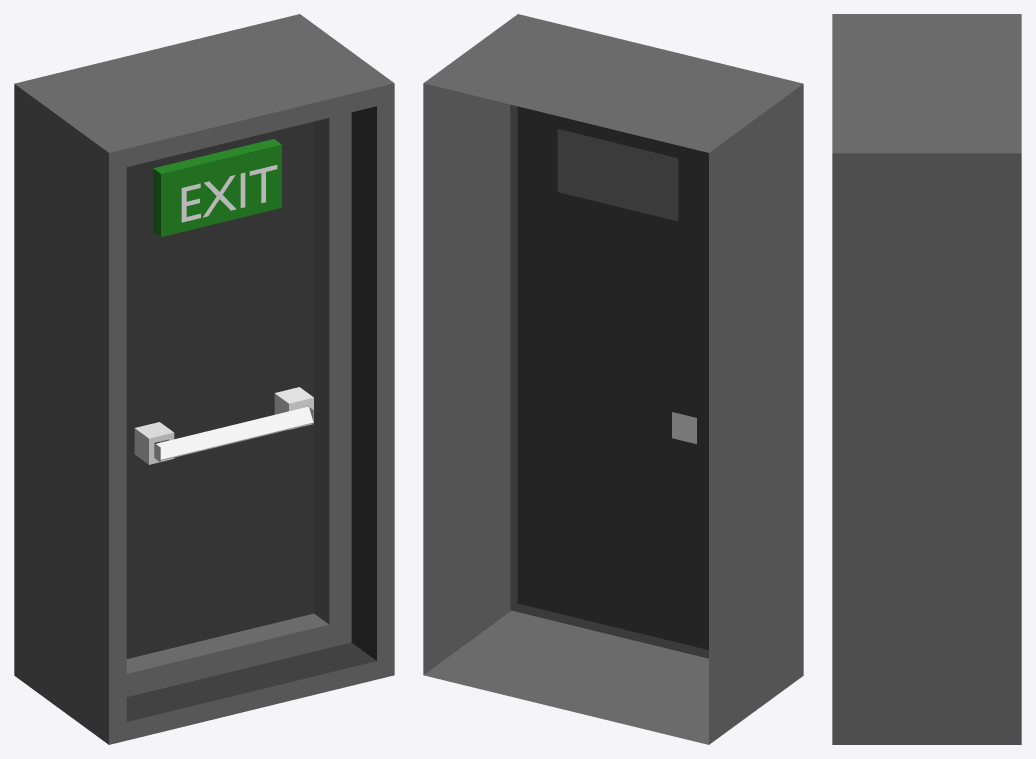
File: exit_door.glb
The picture shows the model from 3 angles, left to right: view 1: azimuth 30°, elevation 25°; view 2: azimuth 150°, elevation 25°; view 3: azimuth 270°, elevation 25°; orthographic projection.
Visible parts, largest first — view 1: Cube_0, Plane_5, Cube.004_4, Text.001_7, Cube.001_1, Cube.002_2; view 2: Cube_0, Plane_5, Cube.001_1; view 3: Cube_0.
Part boxes in pixels (box(x1,y1,x2,y2)): Cube_0: box(14, 14, 394, 744); Plane_5: box(153, 139, 281, 237); Cube.004_4: box(156, 406, 313, 461); Text.001_7: box(181, 165, 277, 222); Cube.001_1: box(134, 422, 174, 464); Cube.002_2: box(274, 387, 313, 429); Cube_0: box(423, 14, 803, 744); Plane_5: box(557, 129, 678, 221); Cube.001_1: box(672, 412, 696, 444); Cube_0: box(832, 14, 1021, 744).
Bounding box in the file's own units: 3.74 × 7.42 × 2.15.
